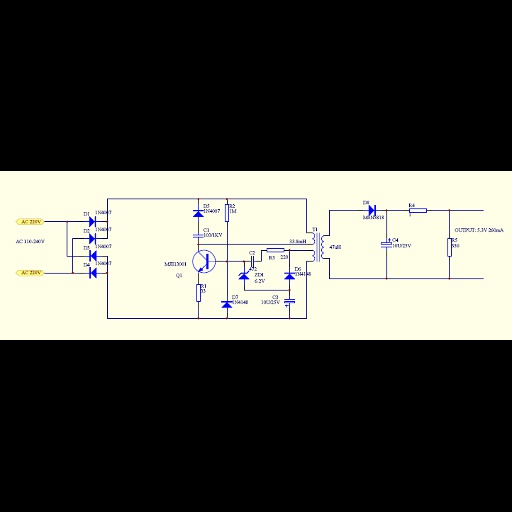capacitor: (192, 232, 204, 240), (249, 255, 256, 268)
firstdiode: (87, 231, 99, 245), (191, 208, 204, 220), (219, 299, 233, 310), (86, 215, 98, 227), (87, 249, 98, 262), (88, 267, 99, 280), (282, 272, 296, 282), (367, 204, 378, 216)
firstresistance: (445, 236, 453, 259), (223, 202, 230, 223), (195, 281, 201, 305), (407, 208, 430, 214), (265, 247, 285, 253)
npn: (198, 252, 212, 273)
secondpolarcapacitor: (379, 236, 393, 250), (283, 296, 298, 309)
transformer: (311, 232, 326, 263)
